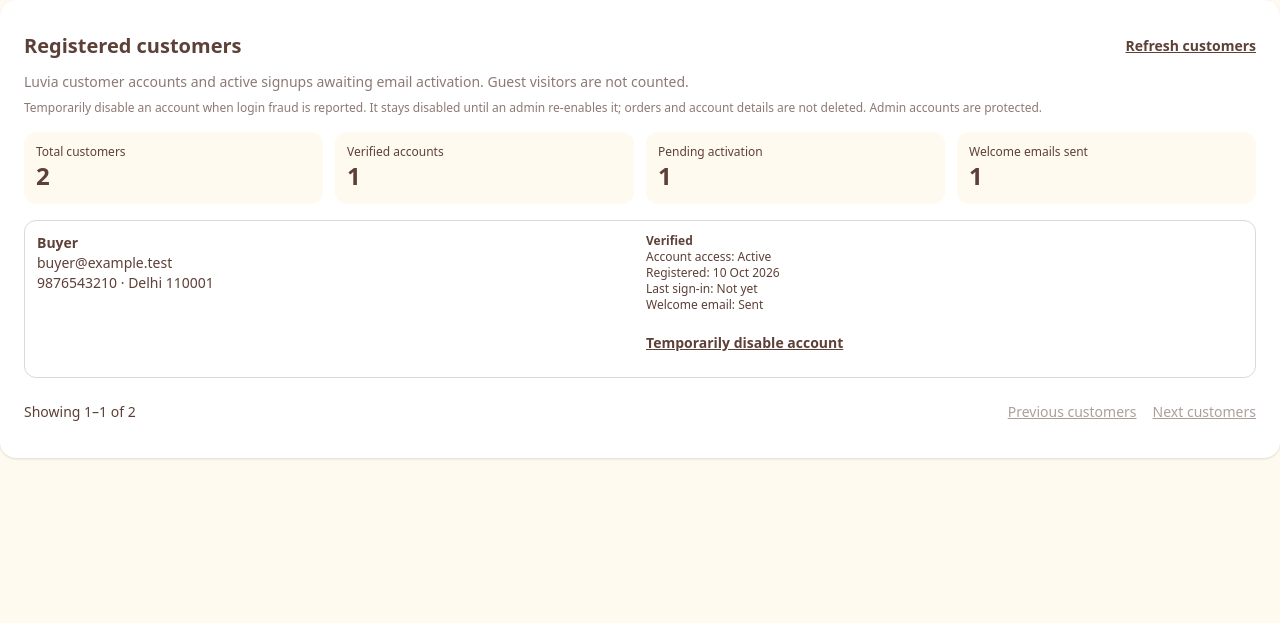
Test: clears the admin password on failure and does not claim success
Click the button "Temporarily disable account" at (745, 343), box 646,321 -> 843,365
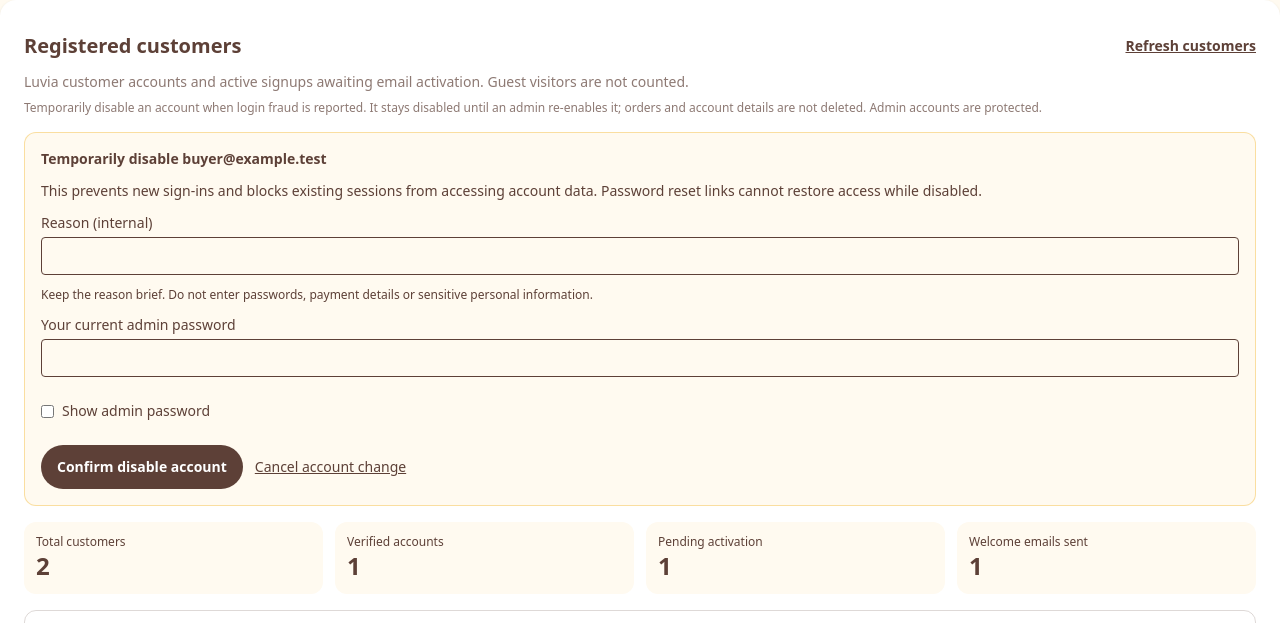
Type "Security report" into the field labelled "Reason (internal)" at (640, 256), box 41,237 -> 1239,275
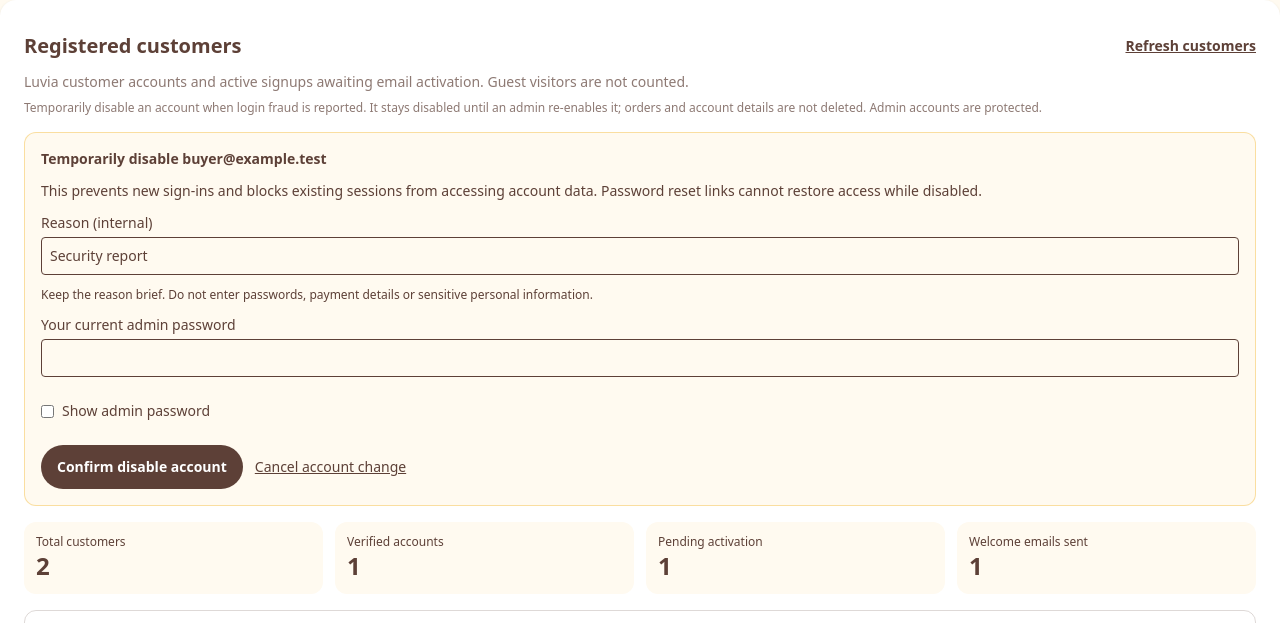
Type "wrong" into the password field labelled "Your current admin password" at (640, 358), box 41,339 -> 1239,377
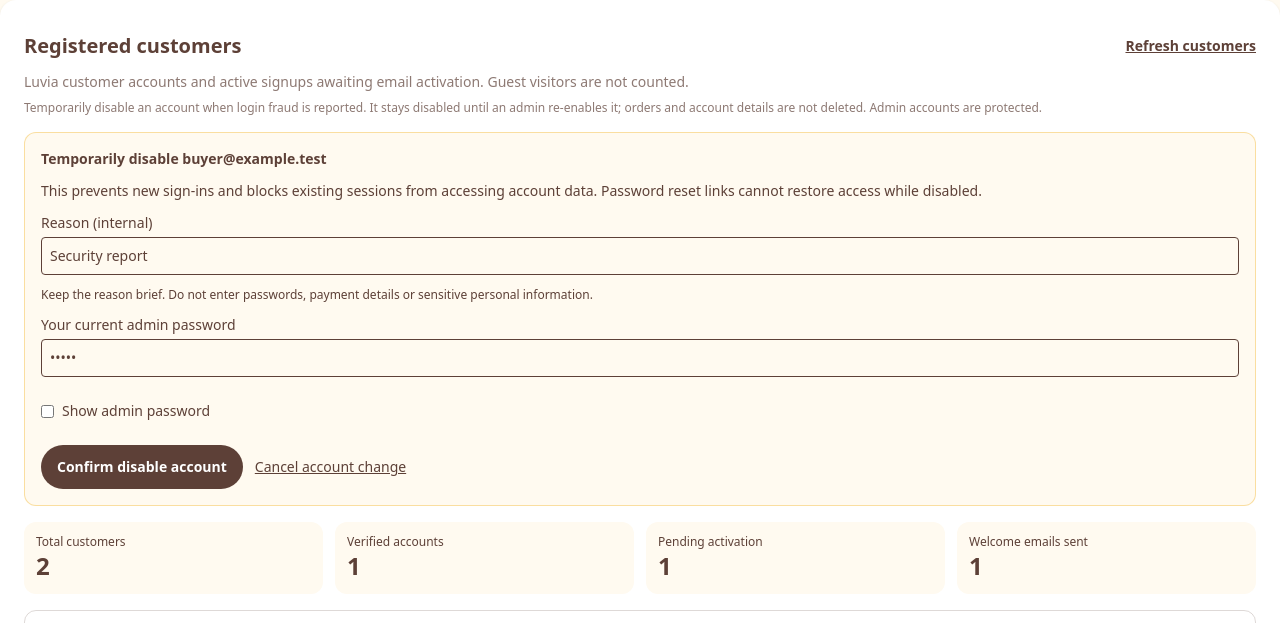
Click the checkbox labelled "Show admin password" at (48, 411), box 41,404 -> 54,418
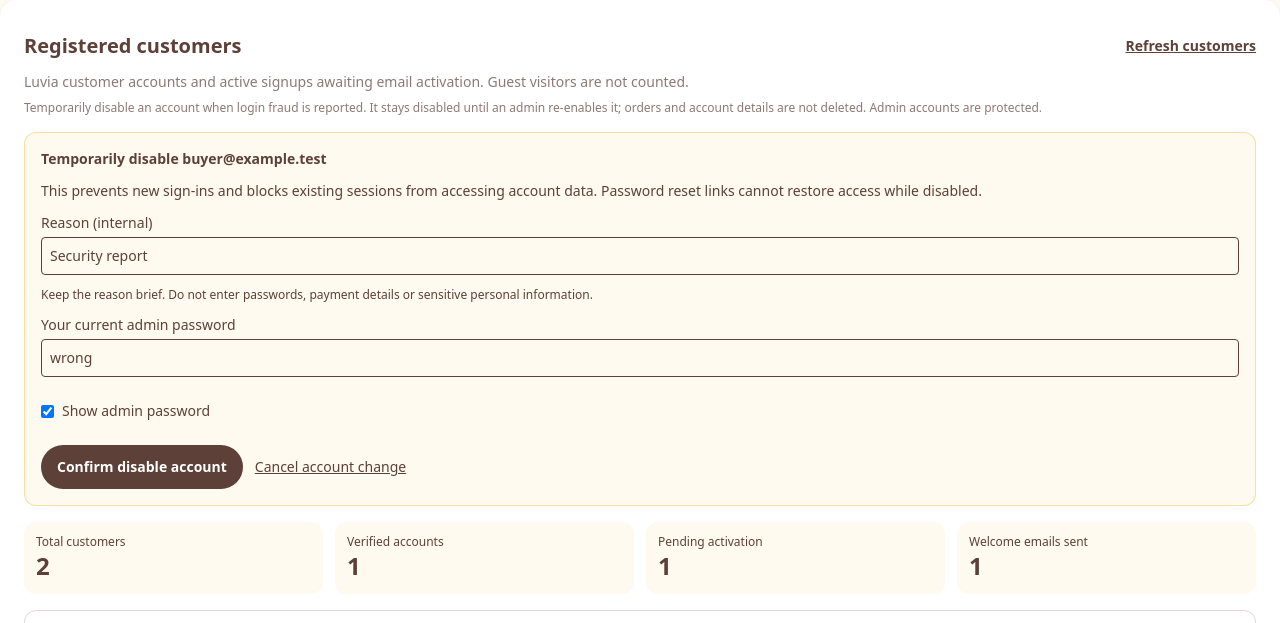
Submit the form named "Customer account access", box 24,132 -> 1256,506
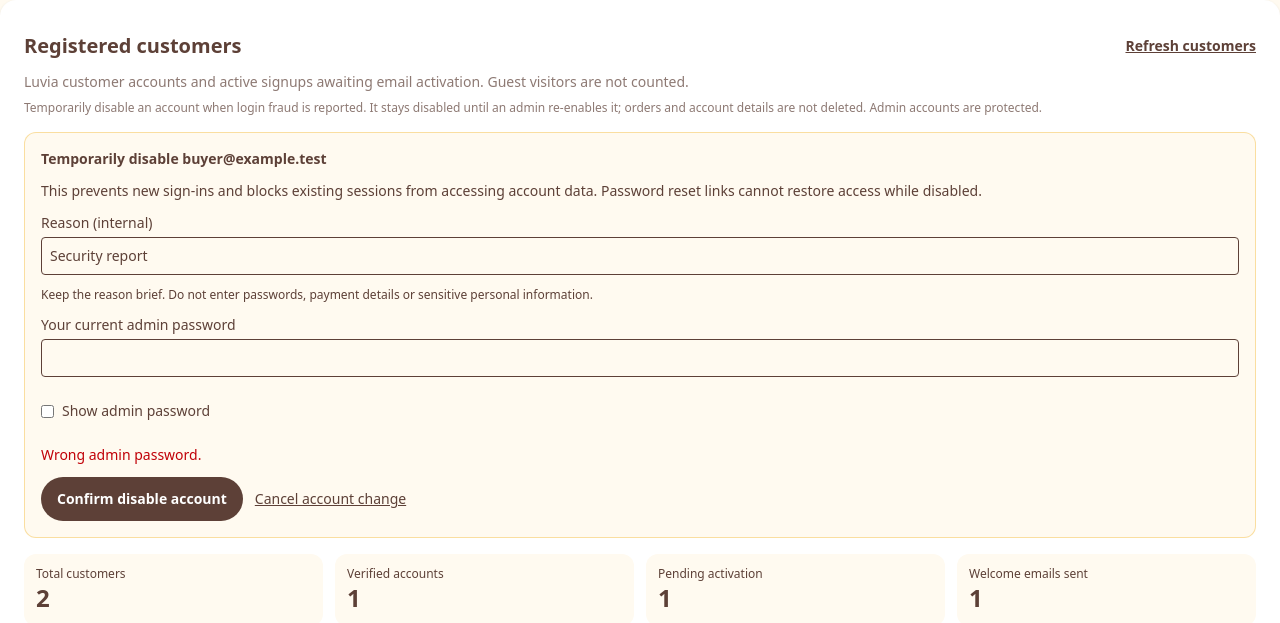
Check: the message reads "Wrong admin password.", box 41,445 -> 201,464
Check: the password field labelled "Your current admin password" is empty, box 41,339 -> 1239,377
